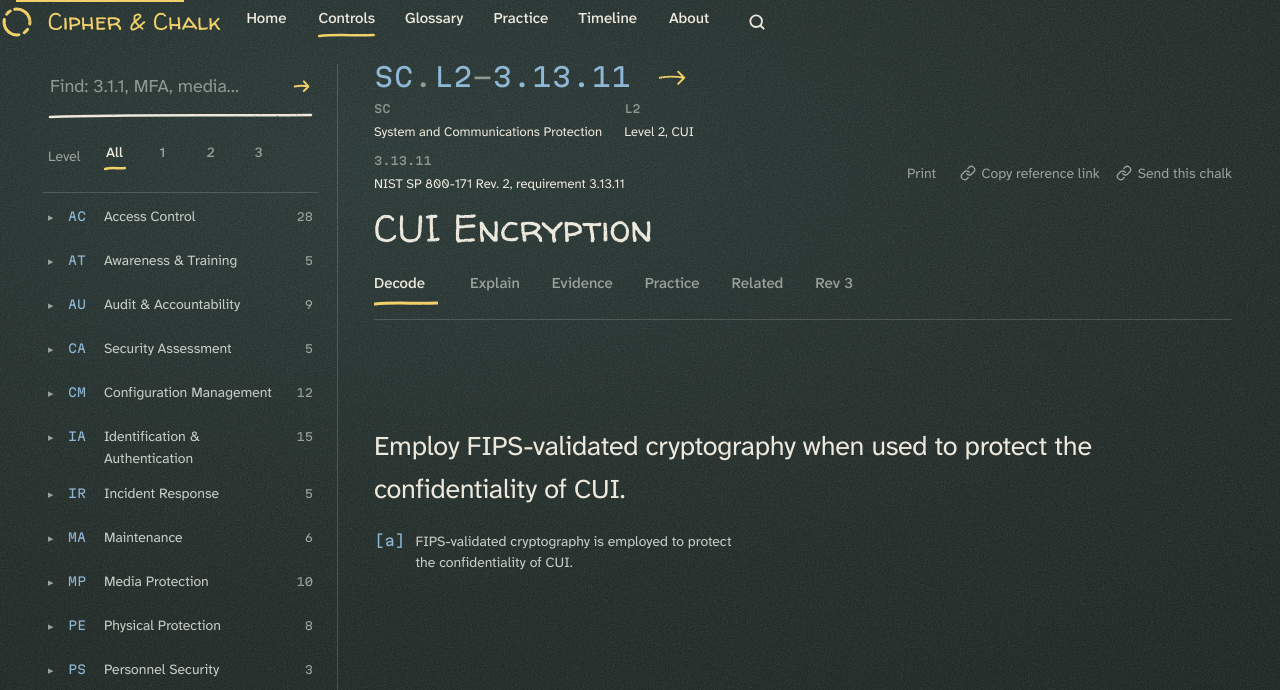
Test: The Rev 3 view › opens Rev 3 from the views and keeps it in the address
Expected: the heading "CUI Encryption" is shown, [374,202,653,254]
What coordinates should you click on to do the following:
click the link "Rev 3"
I would click on:
 (834, 283)
Its box is [815,273,853,293].
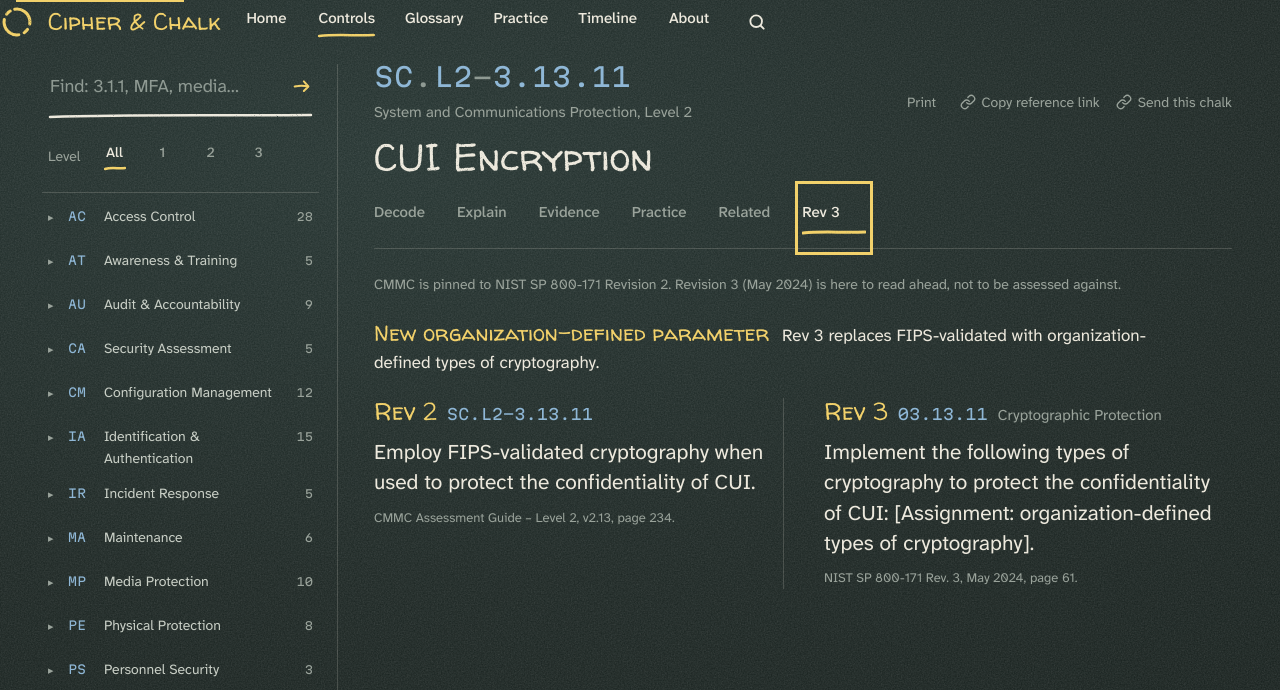
Result: the text with class "rev3-note" reads "Rev 3 replaces FIPS-validated with organization-defined types of cryptography." at [374,324,1146,373]
